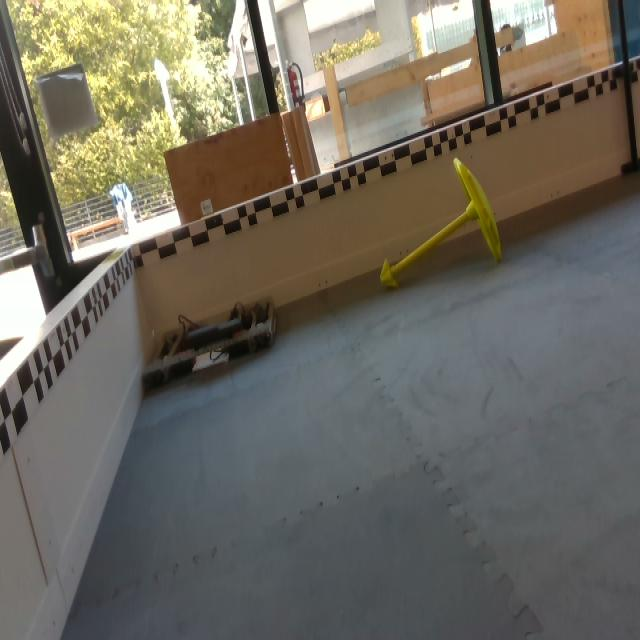Mobile-Goal: (379, 160, 504, 291)
Yellow-Stake-Head: (380, 258, 399, 290)
